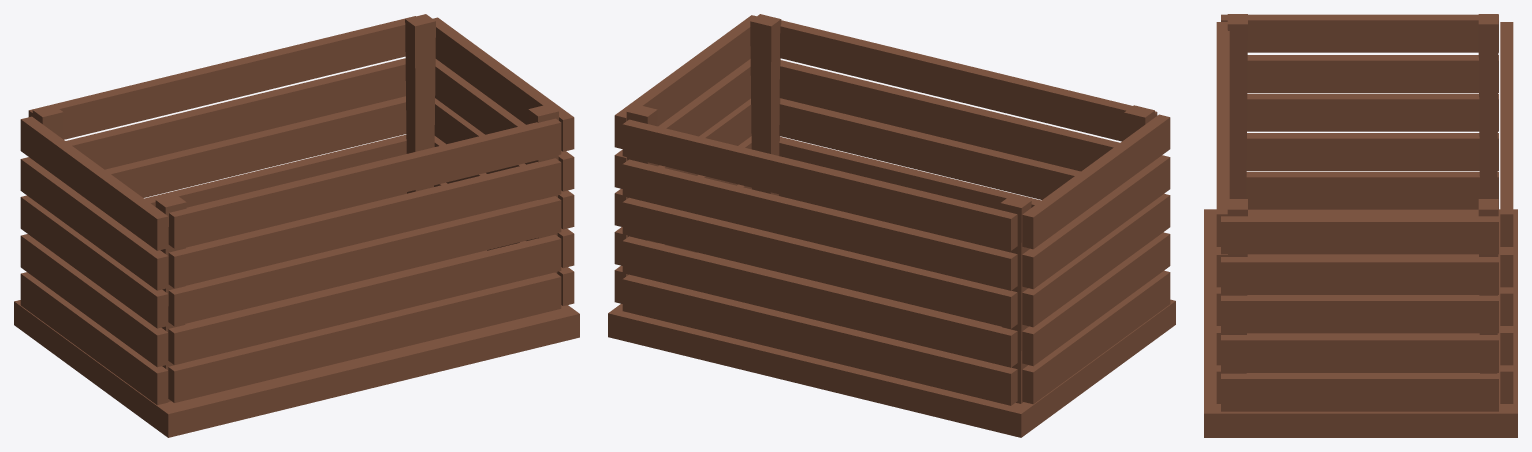
Rendered from Caixa_3.fbx.
3 renders of one model, left to right at view 1: azimuth 30°, elevation 25°; view 2: azimuth 150°, elevation 25°; view 3: azimuth 270°, elevation 25°, orthographic.
Parts seen in each view (by area): view 1: Caixa_3; view 2: Caixa_3; view 3: Caixa_3.
Boxes of the visible parts, x1,y1,x2,y2 form: Caixa_3: (14, 14, 579, 437); Caixa_3: (608, 14, 1175, 437); Caixa_3: (1204, 14, 1517, 437).
Bounding box in the file's own units: 1.04 × 1.62 × 0.8151.
